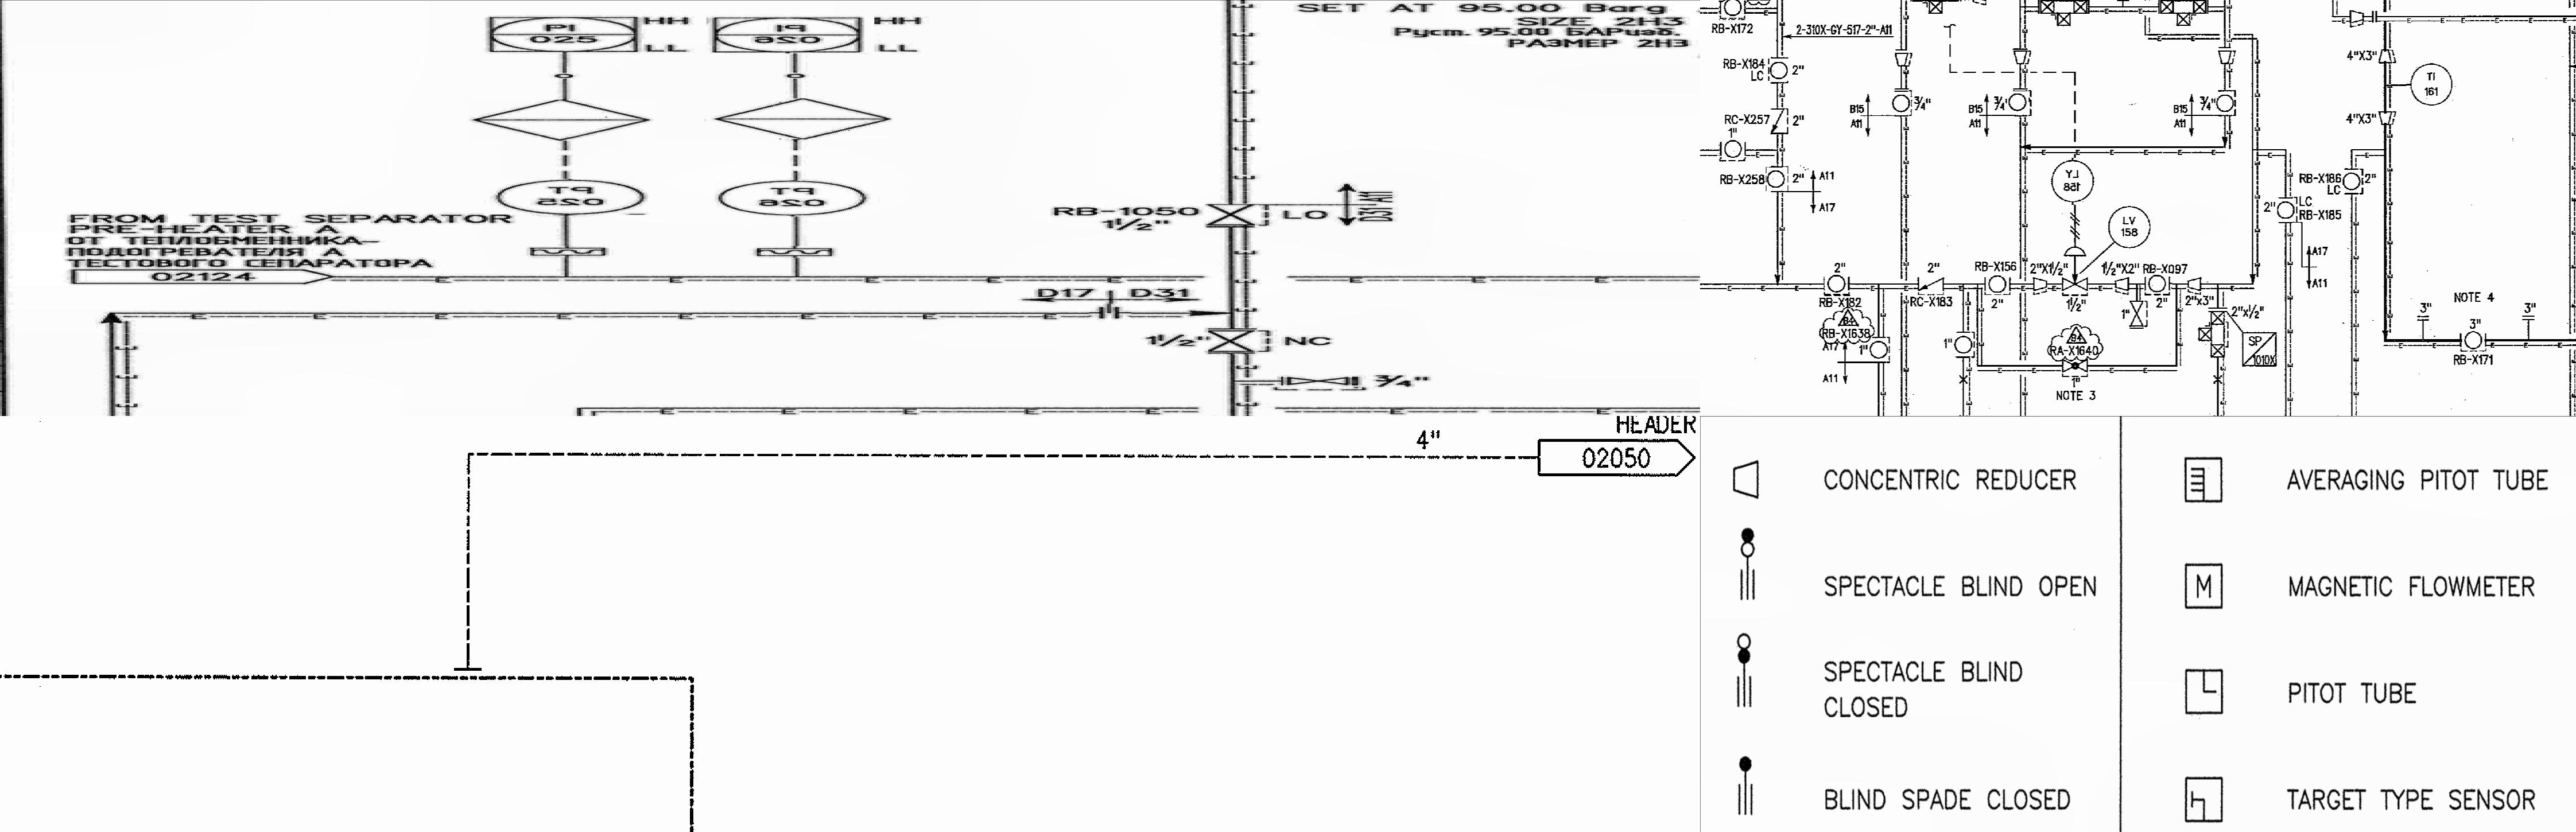2 WAY VALVE: (2195, 309, 2228, 361), (2037, 0, 2095, 30), (2154, 0, 2210, 28), (1906, 0, 1963, 20)
CONCENTRIC REDUCER: (1889, 49, 1916, 74), (2008, 46, 2034, 69), (2376, 105, 2399, 128), (2376, 46, 2397, 67), (2113, 274, 2132, 295), (2215, 46, 2236, 66), (2348, 8, 2366, 28), (2187, 276, 2205, 294), (2031, 277, 2049, 294), (1966, 0, 1989, 10)
DCS ACCESSIBLE: (708, 15, 879, 54), (478, 16, 646, 53)
DIAPHRAGM ACTUATED VALVE: (2058, 246, 2088, 295)
DIAPHRAGM SEAL: (744, 246, 844, 258), (522, 246, 611, 258)
END FLANGED: (1091, 304, 1134, 322), (2515, 312, 2541, 322), (2369, 7, 2382, 26), (2410, 312, 2435, 318)
FIELD INSTRUMENT: (486, 179, 649, 215), (716, 181, 876, 217), (2049, 158, 2100, 205), (2407, 61, 2456, 108), (2108, 203, 2152, 251), (1891, 90, 1916, 118), (1985, 272, 2012, 297), (2146, 272, 2172, 297), (1952, 333, 1980, 356), (1824, 272, 1850, 295), (2461, 330, 2487, 353), (1866, 336, 1889, 363), (2215, 87, 2236, 115), (2339, 167, 2362, 192), (1718, 139, 1745, 161), (2008, 92, 2031, 115), (2274, 199, 2297, 222), (1766, 59, 1791, 80), (1718, 0, 1745, 20), (1766, 167, 1787, 190)
GATE VALVE: (1209, 330, 1263, 354), (1206, 203, 1260, 226), (2058, 353, 2091, 379), (1283, 376, 1355, 387), (2126, 300, 2150, 327)
HARDWIRED INTERLOCK PRIMARY.: (706, 98, 892, 139), (468, 100, 657, 139)
REVISION TRIANGLE: (2067, 323, 2088, 348), (1837, 310, 1860, 330), (1743, 0, 1771, 5)
SPECIAL PIPING ITEM: (2239, 330, 2280, 373)
